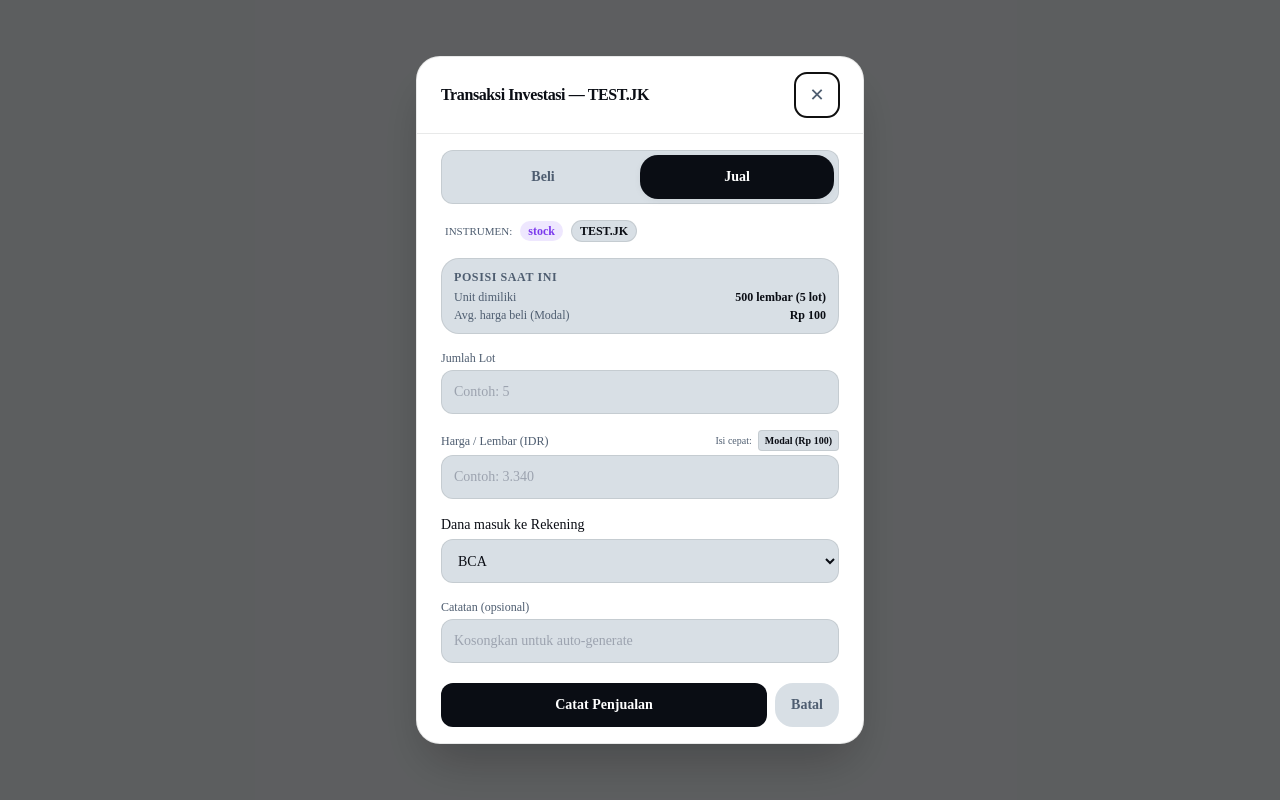
Test: InvestmentTradeModal › prevents selling more shares than the owned position
In the number field labelled "Jumlah Lot": (640, 392) [441,370,839,414], type "6"
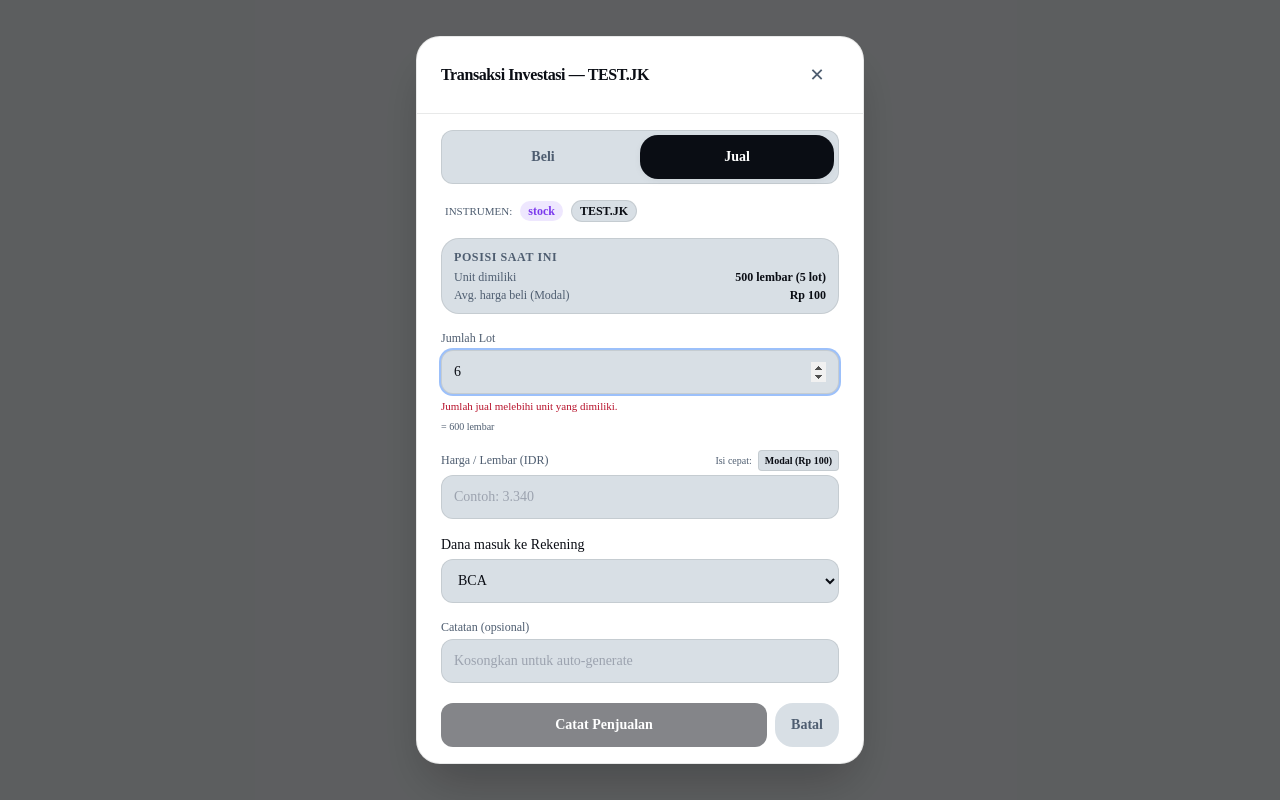
expect the message shows "Jumlah jual melebihi unit yang dimiliki": met, box [441,400,618,412]
expect the button "Catat Penjualan" is disabled: met, box [441,703,767,747]
